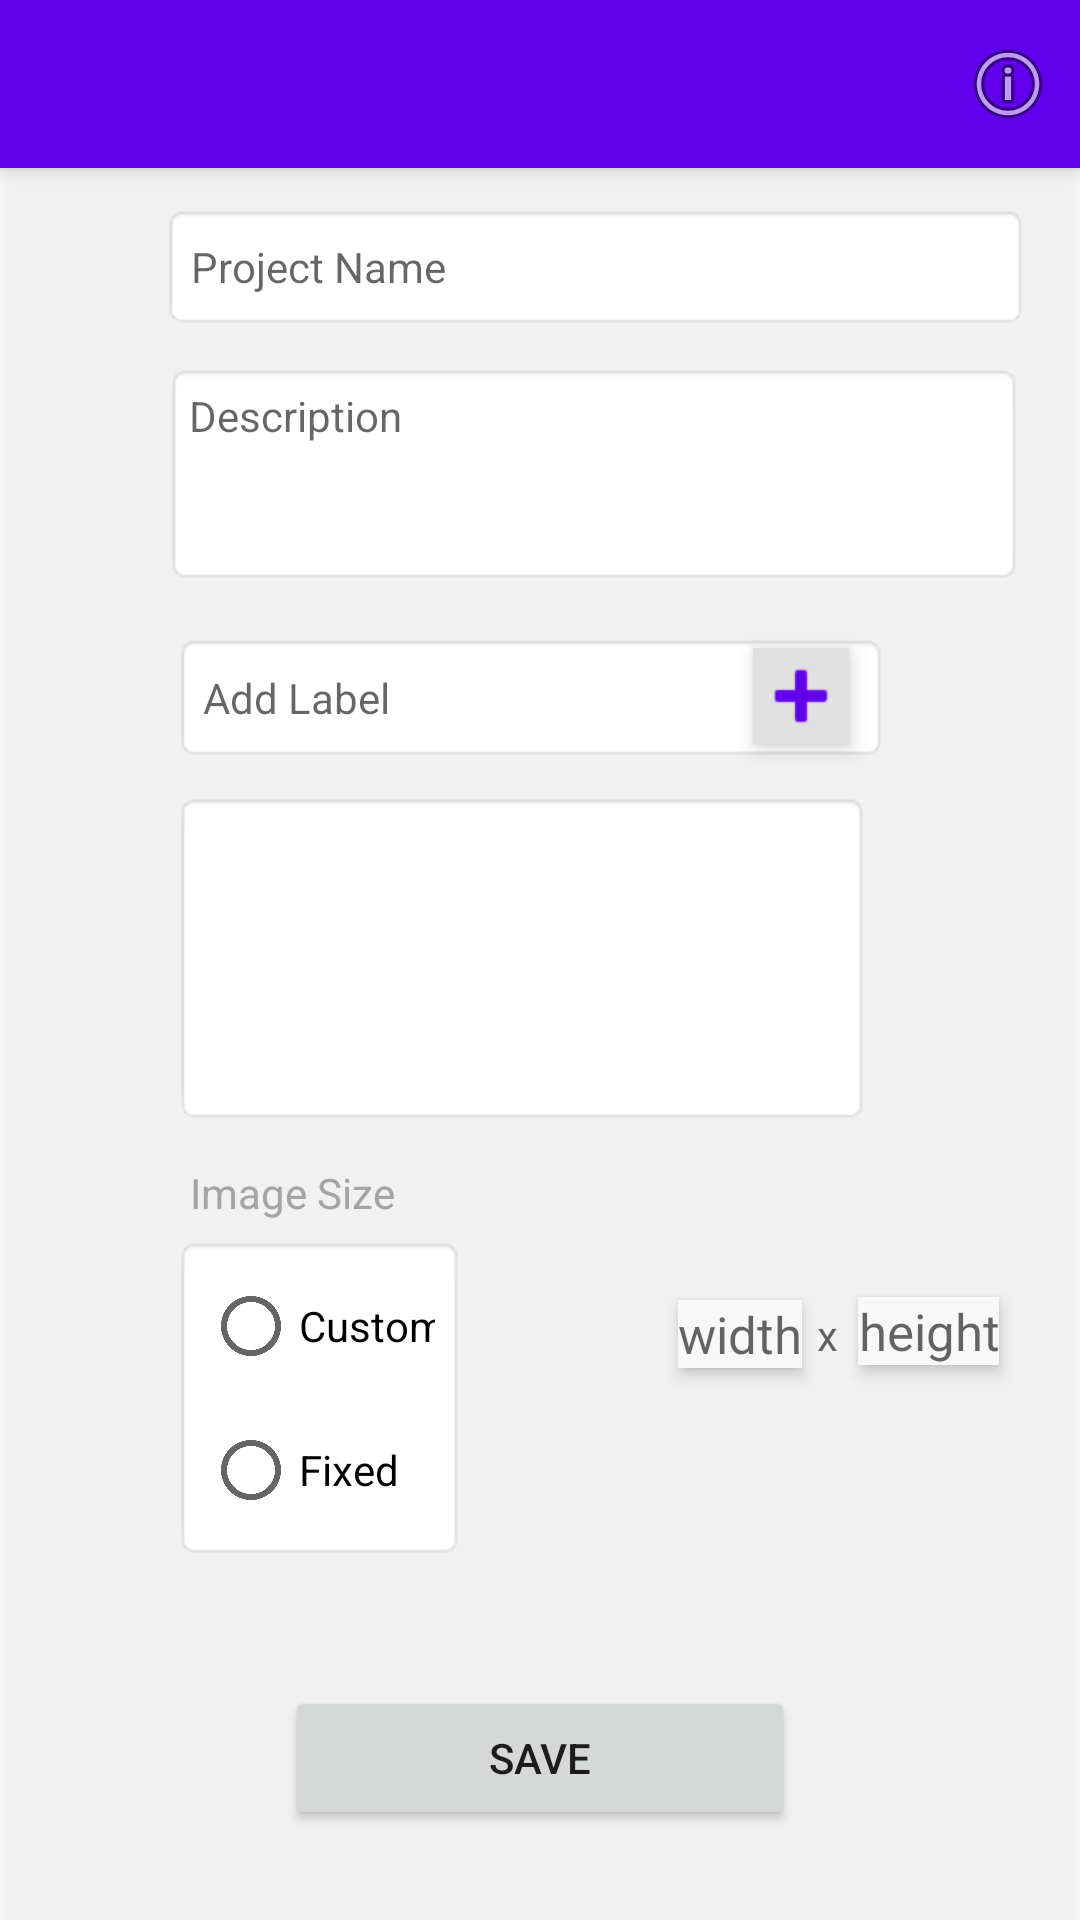

Point at icon controls on the screen. Image size 1080 × 1920, points as (x,y).
Help: (1008,84)
